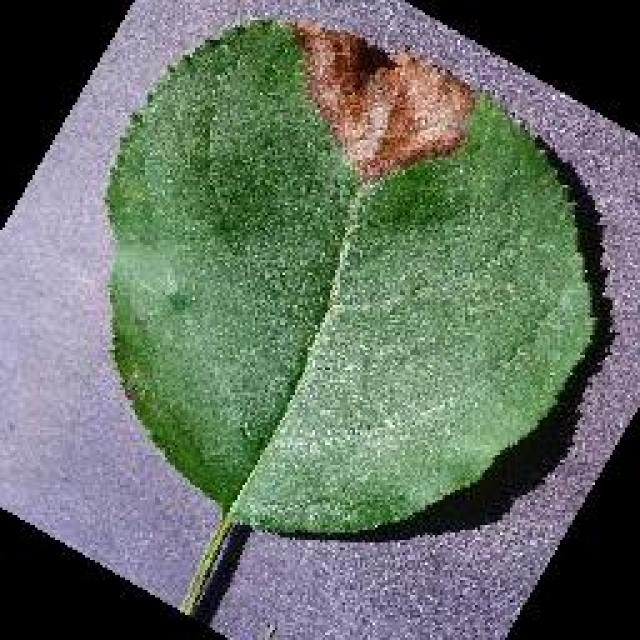Black_rot: (0, 0, 638, 638), (225, 87, 597, 535), (102, 15, 360, 515)
